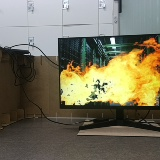fire: (61, 40, 160, 107)
